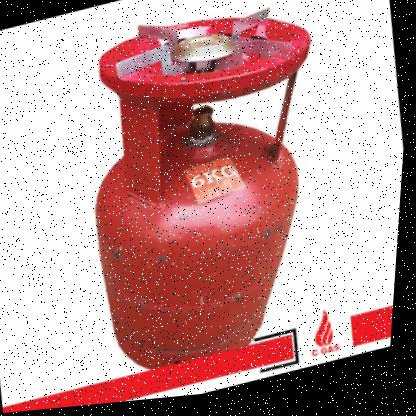gas-tank: (17, 0, 359, 412)
